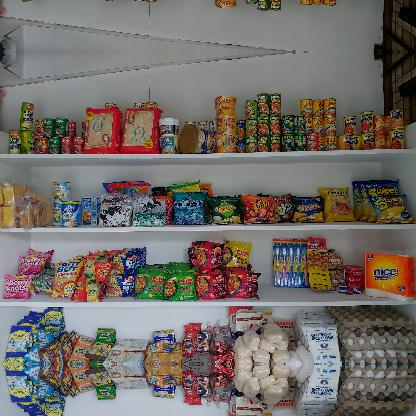Lady-s-Choice: (179, 124, 215, 152)
